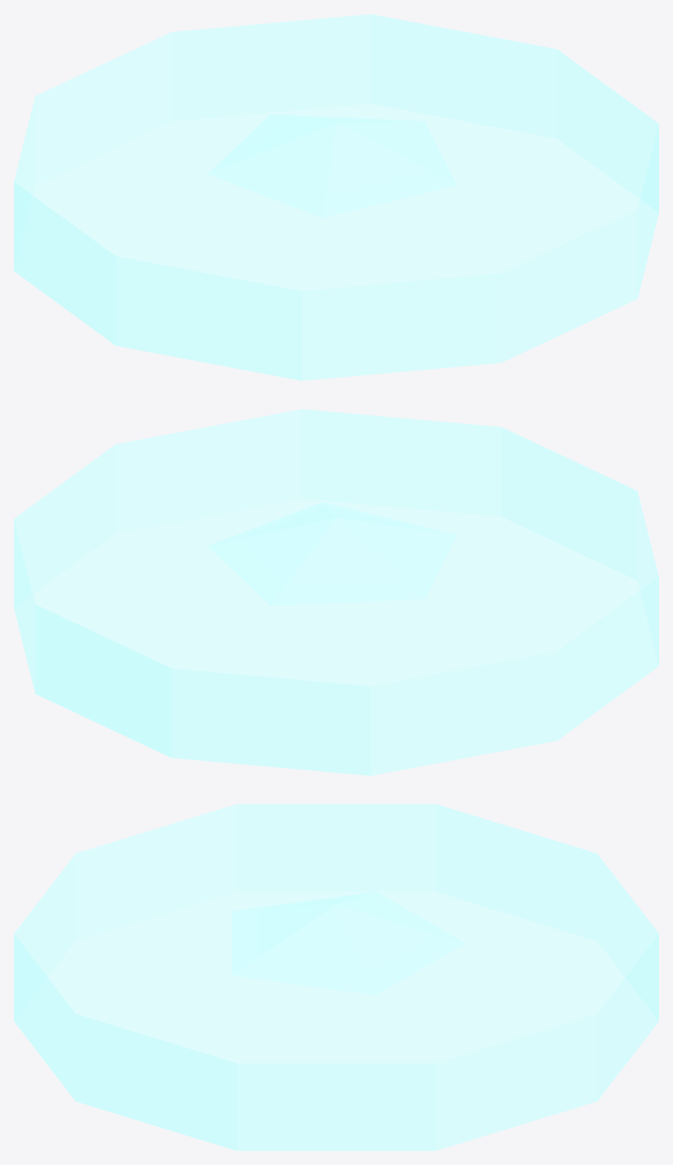
File: GH_Currency_Coin.fbx
3 renders of one model, top to bottom at view 1: azimuth 30°, elevation 25°; view 2: azimuth 150°, elevation 25°; view 3: azimuth 270°, elevation 25°, orthographic. The views are drawn at different scales.
Visible parts, largest first — view 1: SM_Currency_Coin; view 2: SM_Currency_Coin; view 3: SM_Currency_Coin.
Boxes of the visible parts, x1=… form: SM_Currency_Coin: x1=14, y1=14, x2=658, y2=380; SM_Currency_Coin: x1=14, y1=409, x2=658, y2=775; SM_Currency_Coin: x1=14, y1=804, x2=658, y2=1150.
Bounding box in the file's own units: 0.5706 × 0.12 × 0.6.
